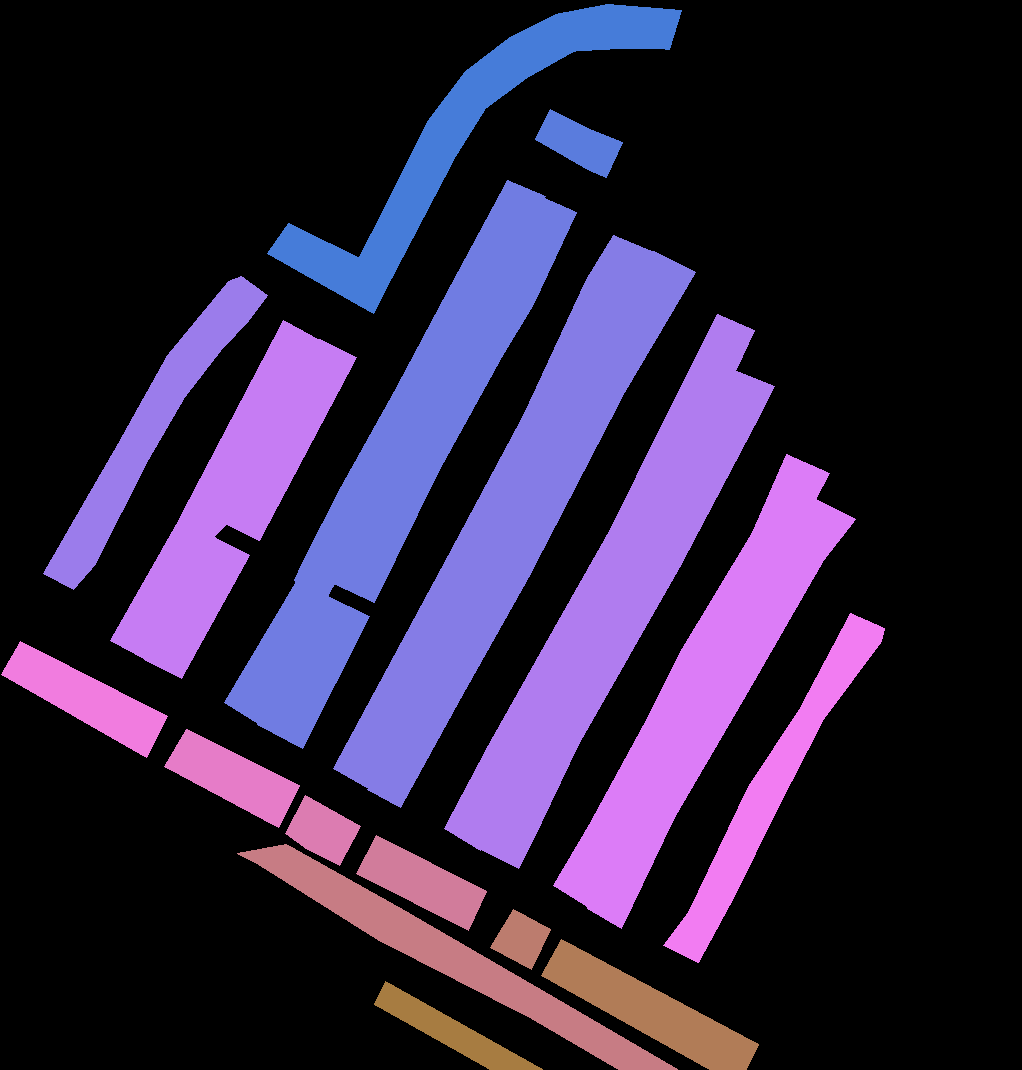parkingspot: (367, 251, 695, 807), (333, 235, 656, 788), (444, 314, 754, 850), (478, 370, 774, 868), (553, 454, 829, 908), (587, 498, 855, 928), (294, 180, 545, 598), (237, 844, 677, 1069), (333, 197, 576, 602), (357, 4, 681, 278), (663, 613, 884, 962), (43, 276, 267, 589), (179, 320, 321, 536), (541, 939, 758, 1069), (224, 339, 356, 540), (1, 641, 167, 757), (257, 596, 369, 748), (374, 981, 543, 1070), (224, 581, 329, 724), (110, 517, 215, 659), (144, 537, 249, 678), (164, 729, 299, 827), (356, 835, 486, 930), (267, 223, 393, 313), (535, 109, 622, 177), (285, 795, 360, 865), (490, 909, 550, 969)
